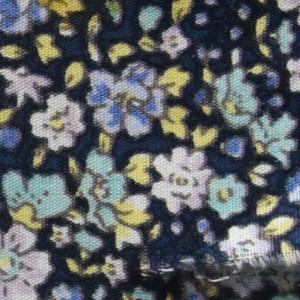Damage: (121, 242, 300, 300)
Stain: (35, 1, 130, 32)
